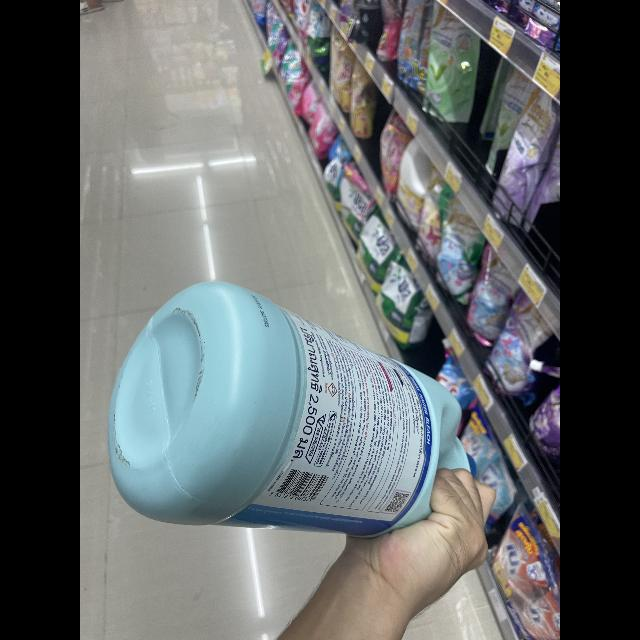chemical_plastic_bottle: (103, 277, 485, 547)
